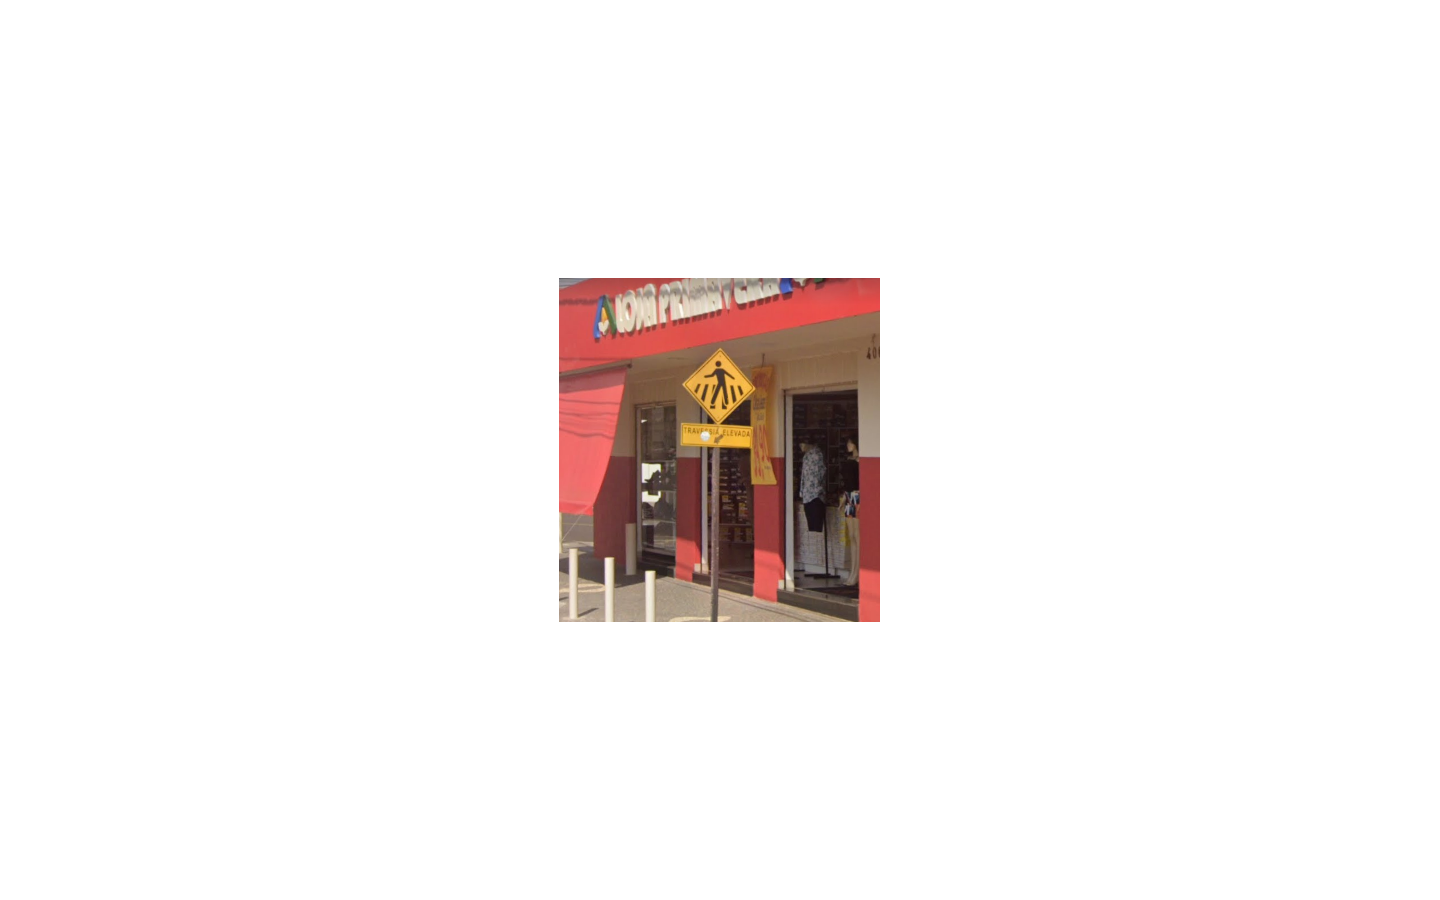telev: (680, 348, 755, 448)
